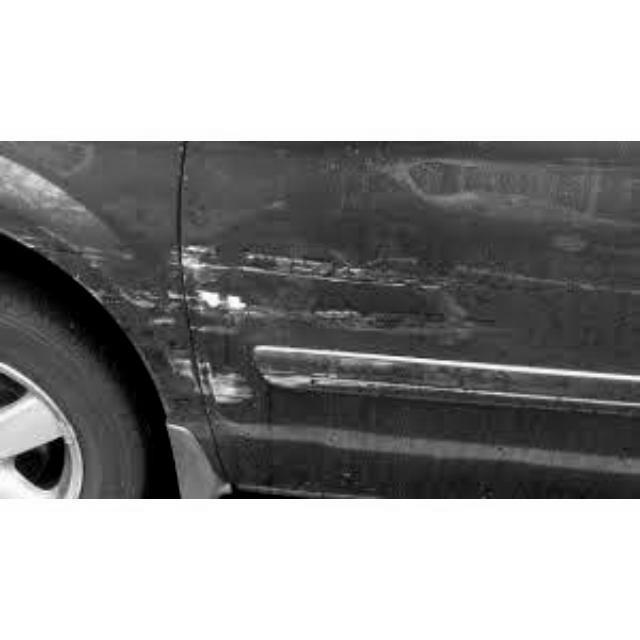doorouter-dent: (193, 167, 502, 497)
